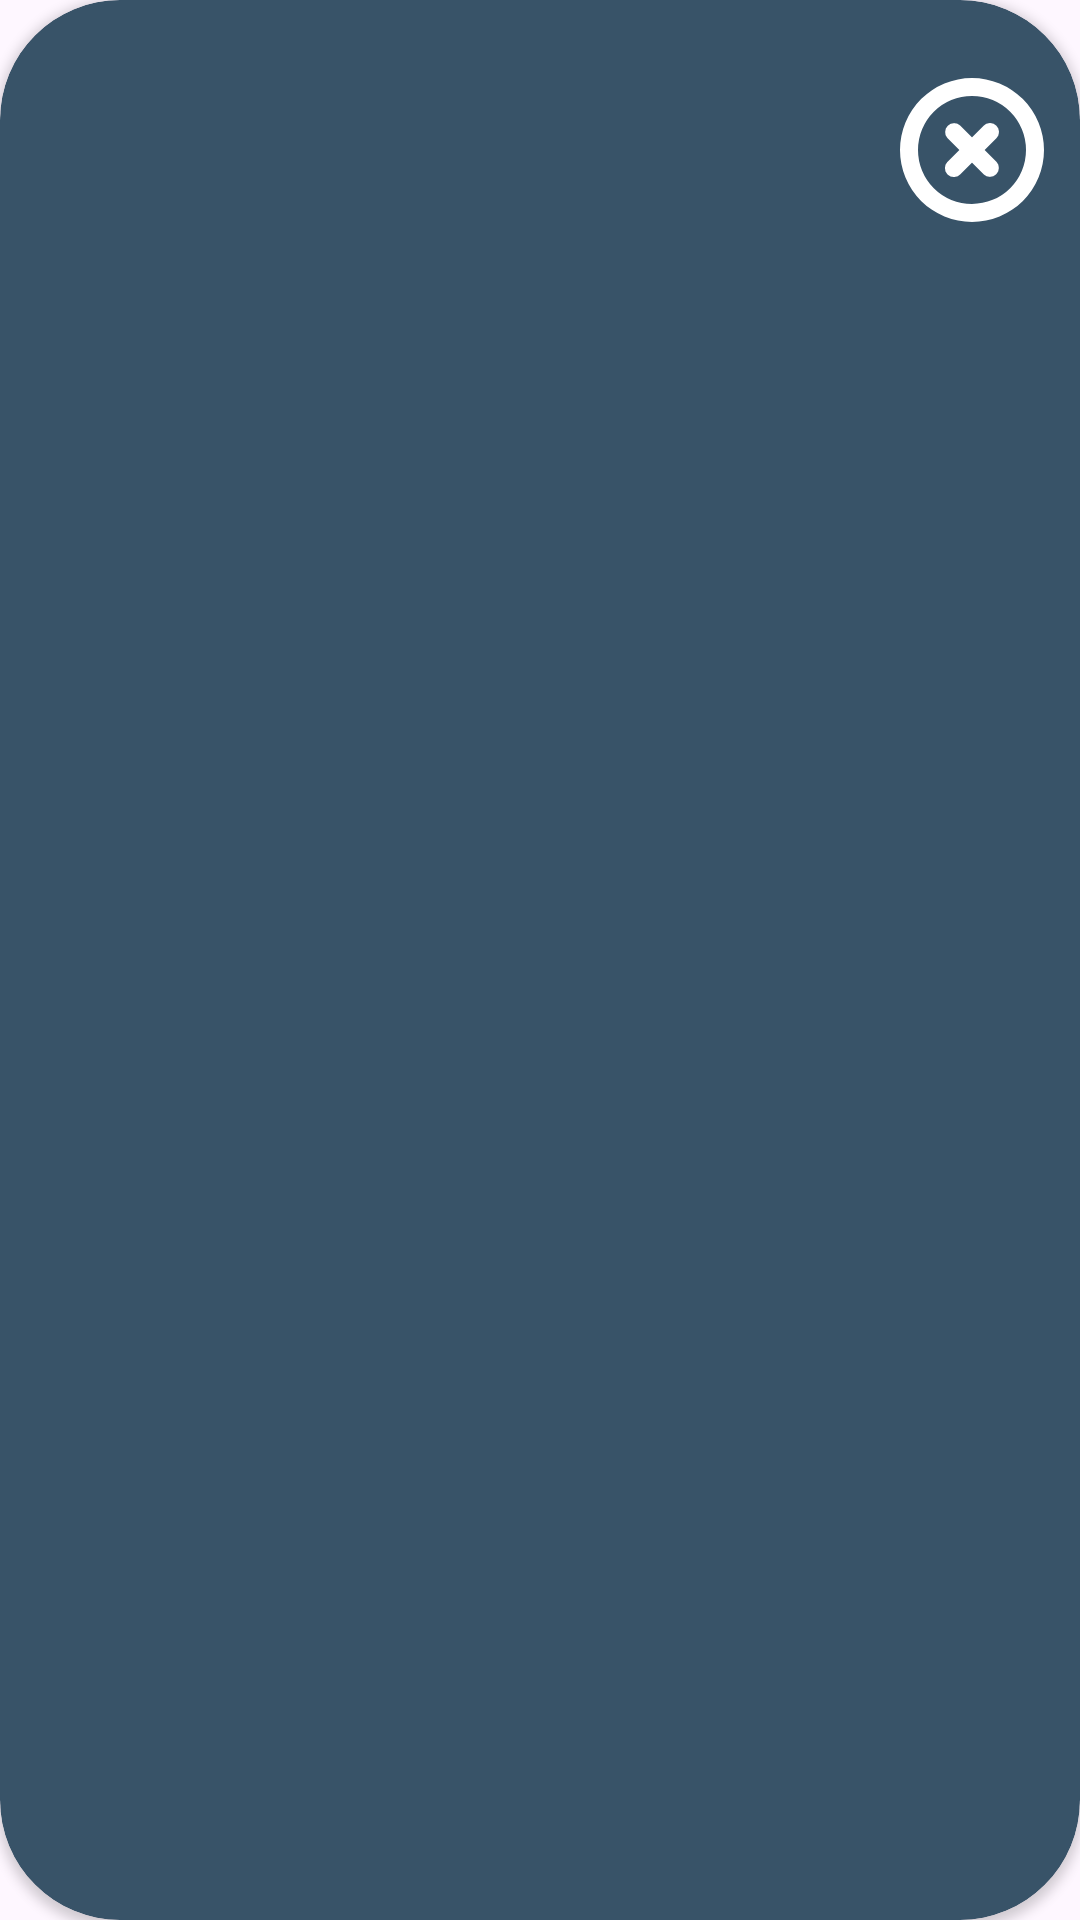

Named icons in this screenshot (1080×1920) and their bounding boxes, (x1, y1, x2, y2):
delete: (900, 78, 1044, 222)
